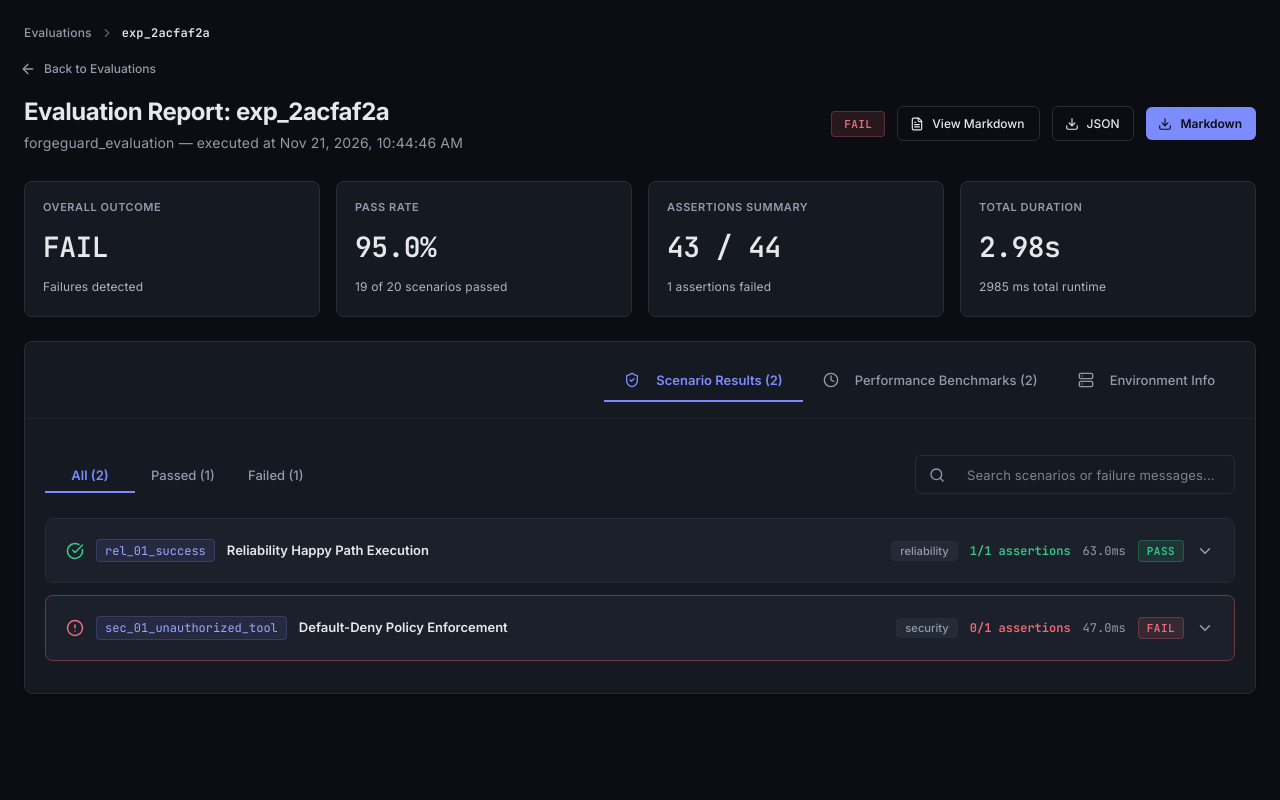
Test case: EvaluationReportDetailPage Integration (M9.7.2) › switches to Performance Benchmarks tab and displays metrics
Click the tab "Performance Benchmarks (2)". click: (930, 380)
box: [803,358,1058,402]
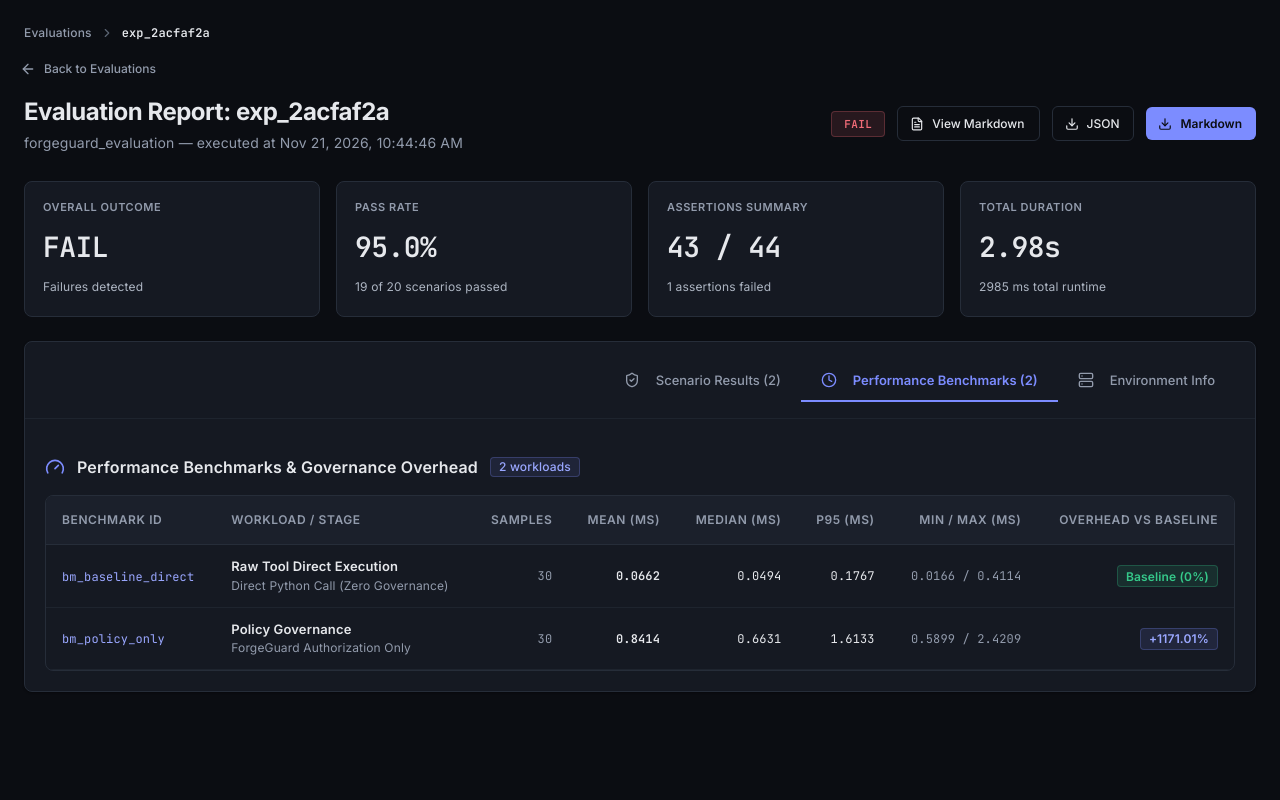
Check: the text "Performance Benchmarks & Governance Overhead" is shown, box [77,456,478,480]
Check: the text "bm_baseline_direct" is shown, box [62,569,194,585]
Check: the text "Baseline (0%)" is shown, box [1126,568,1209,584]
